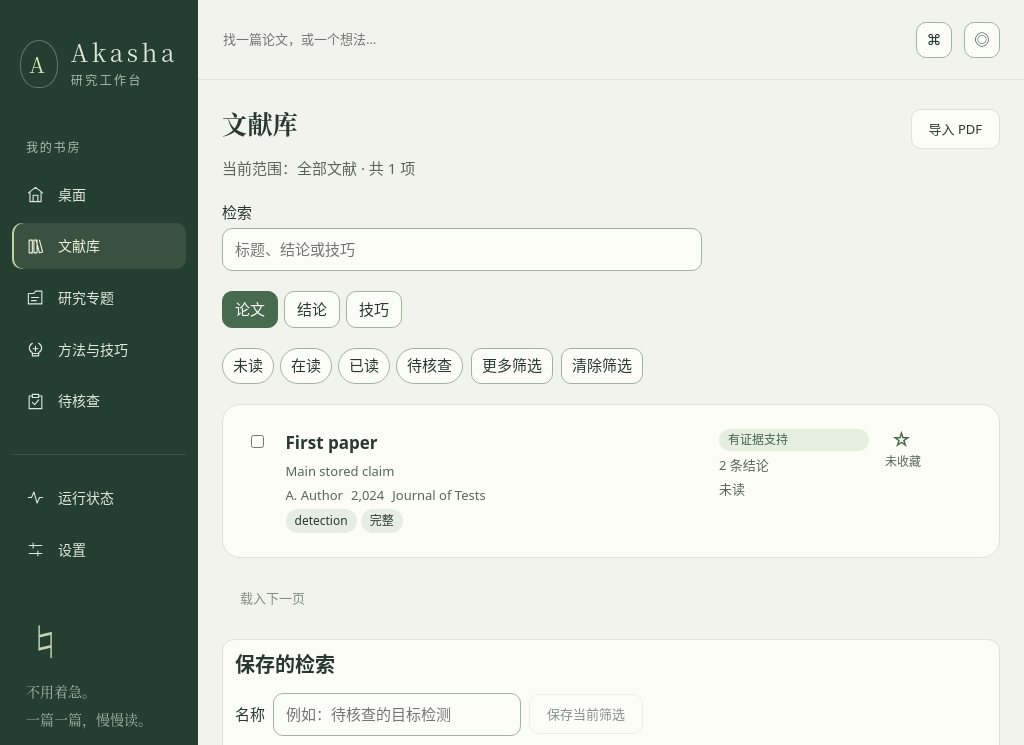
it: UX-024 favourite toggles optimistically, rolls back, and keeps server truth › shows the new state immediately and persists it on the server
This screenshot has width=1024, height=745.
Expected: the link "First paper" is shown, 286,430 -> 378,454
Click the button named "收藏": coordinates (901, 440) 885,428 -> 918,450
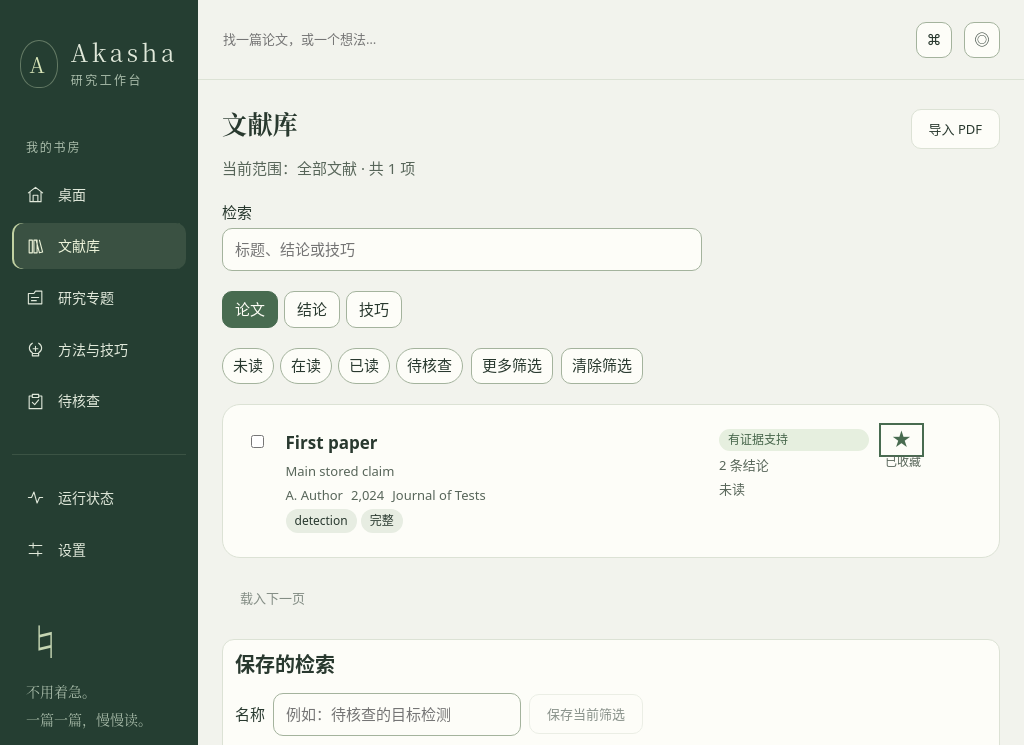
Result: the text with test id "saved-state" reads "已收藏" at 885,452 -> 921,470
